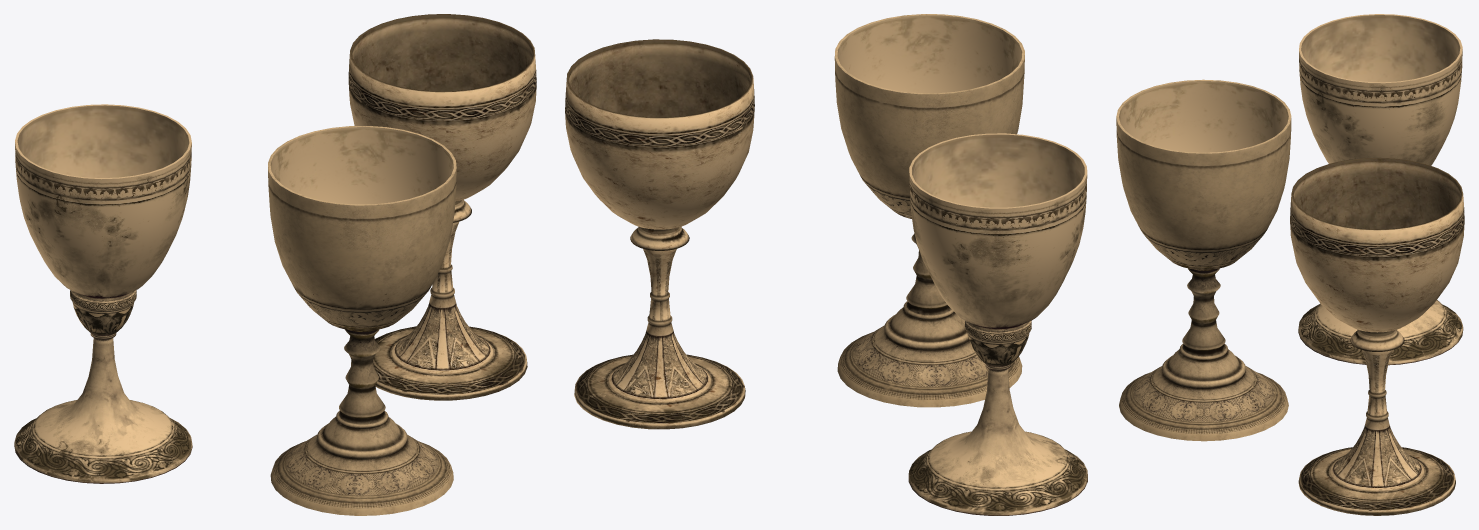
The model's file is brass_goblets_1k.gltf.
The picture shows the model from 3 angles, left to right: view 1: azimuth 30°, elevation 25°; view 2: azimuth 150°, elevation 25°; view 3: azimuth 270°, elevation 25°; orthographic projection. The views are drawn at different scales.
Parts seen in each view (by area): view 1: brass_goblet_01, brass_goblet_02, brass_goblet_03; view 2: brass_goblet_02, brass_goblet_03, brass_goblet_01; view 3: brass_goblet_01, brass_goblet_03, brass_goblet_02.
Boxes of the visible parts, x1=… form: brass_goblet_01: x1=268, y1=126, x2=456, y2=515; brass_goblet_02: x1=14, y1=104, x2=192, y2=483; brass_goblet_03: x1=348, y1=14, x2=536, y2=400; brass_goblet_02: x1=908, y1=133, x2=1087, y2=515; brass_goblet_03: x1=565, y1=39, x2=754, y2=429; brass_goblet_01: x1=834, y1=14, x2=1024, y2=407; brass_goblet_01: x1=1116, y1=79, x2=1291, y2=441; brass_goblet_03: x1=1290, y1=157, x2=1464, y2=515; brass_goblet_02: x1=1298, y1=14, x2=1463, y2=365.
Size of the model in its own units: 0.4534 by 0.2734 by 0.2976.
3 materials, 3 textured.
